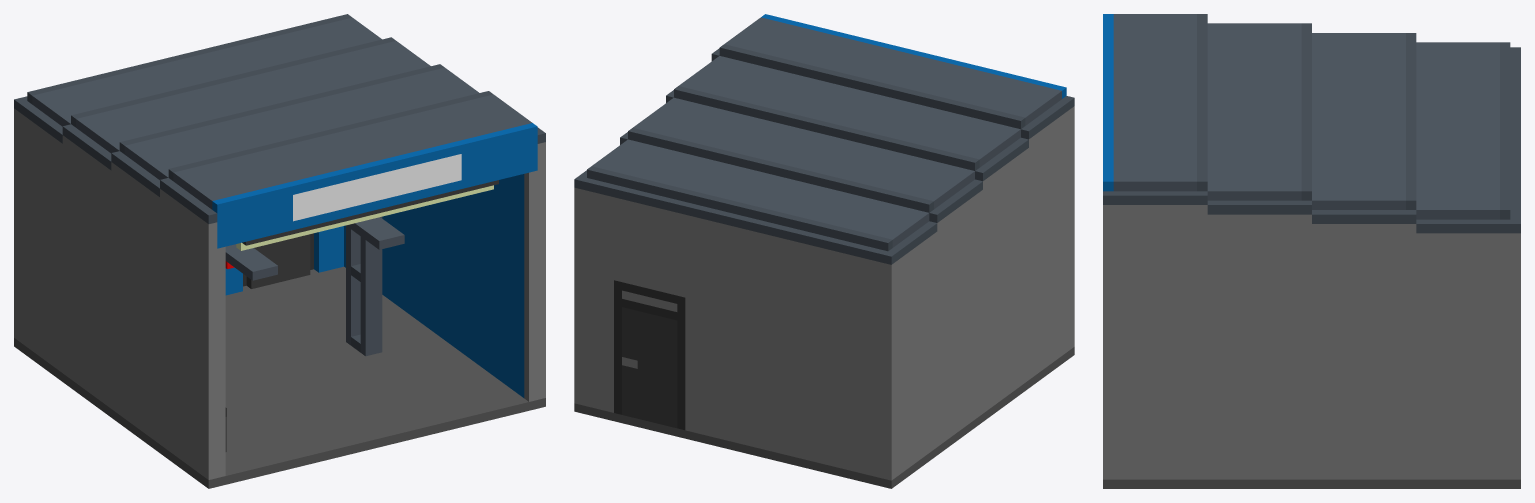
File: prop_pitstop_t2.obj
3 renders of one model, left to right at view 1: azimuth 30°, elevation 25°; view 2: azimuth 150°, elevation 25°; view 3: azimuth 270°, elevation 25°, orthographic. The views are drawn at different scales.
Bounding box in the file's own units: 4 × 3.2 × 4.
1 material, 1 textured.
